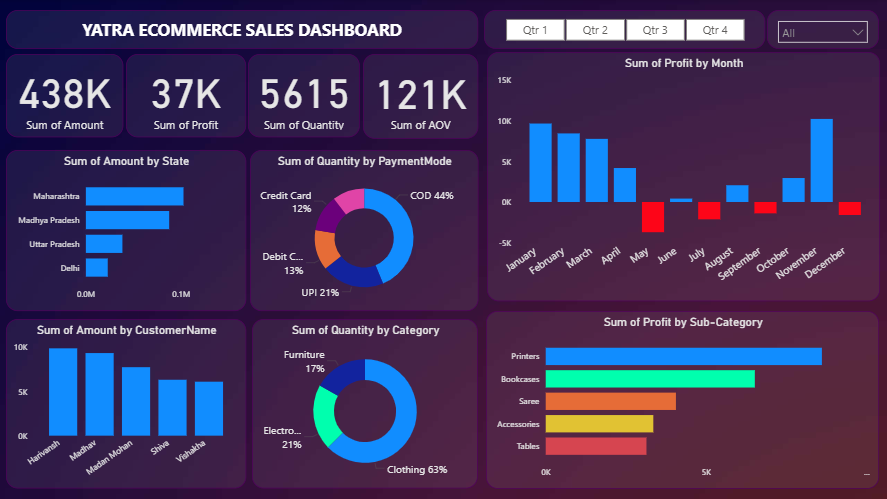

What the dashboard file says about the page in this screenshot:
{"tool":"powerbi","page":{"name":"Page 1","canvas":[1280,720],"ordinal":0},"visuals":[{"type":"textbox","box":[8.5,15.3,679.7,55.9],"z":0},{"type":"columnChart","fields":{"Category":["Orders.Order Date.Variation.Date Hierarchy.Month"],"Y":["Details.Profit"]},"box":[701.7,76.3,566.1,359.3],"z":1000},{"type":"barChart","fields":{"Category":["Details.Sub-Category"],"Y":["Details.Profit"]},"box":[700,449.2,566.1,255.9],"z":2000},{"type":"donutChart","fields":{"Category":["Details.Category"],"Y":["Details.Quantity"]},"box":[362.7,461,325.4,244.1],"z":3000},{"type":"donutChart","fields":{"Category":["Details.PaymentMode"],"Y":["Details.Quantity"]},"box":[359.3,216.9,328.8,232.2],"z":4000},{"type":"card","fields":{"Values":["Details.Amount"]},"box":[8.5,79.7,169.5,120.3],"z":5000},{"type":"card","fields":{"Values":["Details.Profit"]},"box":[181.4,79.7,172.9,120.3],"z":6000},{"type":"card","fields":{"Values":["Details.Quantity"]},"box":[357.6,79.7,161,120.3],"z":7000},{"type":"card","fields":{"Values":["Details.AOV"]},"box":[522,79.7,166.1,122],"z":8000},{"type":"barChart","fields":{"Y":["Details.Amount"],"Category":["Orders.State"]},"box":[8.5,216.9,345.8,232.2],"z":9000},{"type":"columnChart","fields":{"Category":["Orders.CustomerName"],"Y":["Details.Amount"]},"box":[8,461,346,244],"z":10000},{"type":"slicer","fields":{"Values":["Orders.Order Date.Variation.Date Hierarchy.Quarter"]},"box":[696.6,15.3,405.1,55.9],"z":11000},{"type":"slicer","fields":{"Values":["Orders.State"]},"box":[1105.1,15.3,161,55.9],"z":12000}]}

Visuals, with their boxes in screenshot pixels (x1, y1, x2, y2), scaled from the page's 1280x720 canvas onto the 887x499 screenshot:
textbox: Rect(6, 11, 477, 49)
columnChart - Orders.Order Date.Variation.Date Hierarchy.Month x Details.Profit: Rect(486, 53, 879, 302)
barChart - Details.Sub-Category x Details.Profit: Rect(485, 311, 877, 489)
donutChart - Details.Category x Details.Quantity: Rect(251, 319, 477, 489)
donutChart - Details.PaymentMode x Details.Quantity: Rect(249, 150, 477, 311)
card - Details.Amount: Rect(6, 55, 123, 139)
card - Details.Profit: Rect(126, 55, 246, 139)
card - Details.Quantity: Rect(248, 55, 359, 139)
card - Details.AOV: Rect(362, 55, 477, 140)
barChart - Details.Amount x Orders.State: Rect(6, 150, 246, 311)
columnChart - Orders.CustomerName x Details.Amount: Rect(6, 319, 245, 489)
slicer - Orders.Order Date.Variation.Date Hierarchy.Quarter: Rect(483, 11, 763, 49)
slicer - Orders.State: Rect(766, 11, 877, 49)
